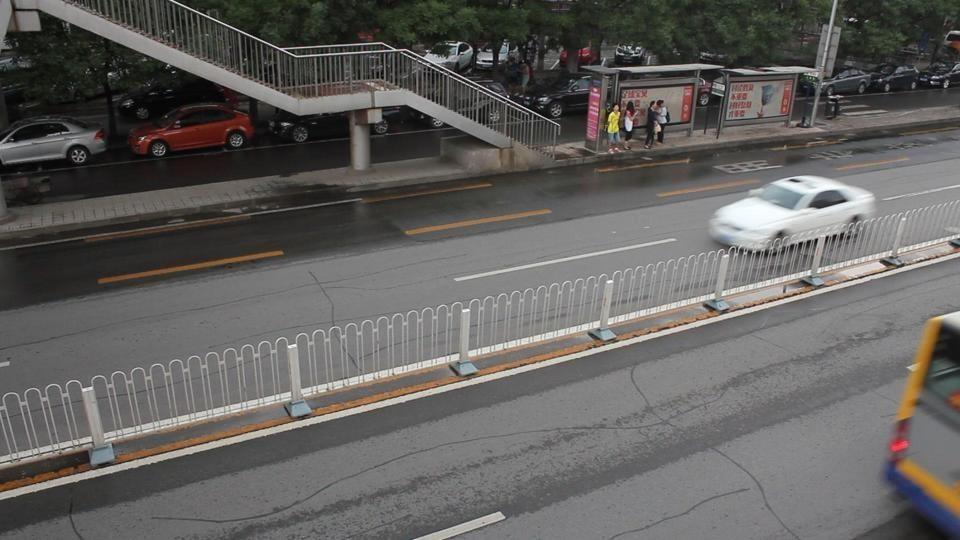car: (882, 309, 959, 535), (706, 174, 877, 251), (127, 104, 257, 159), (0, 116, 108, 170), (117, 77, 230, 120), (512, 76, 600, 118), (268, 111, 357, 144), (423, 40, 474, 72), (865, 67, 920, 93), (821, 70, 875, 95), (608, 43, 656, 66), (921, 67, 960, 89)
